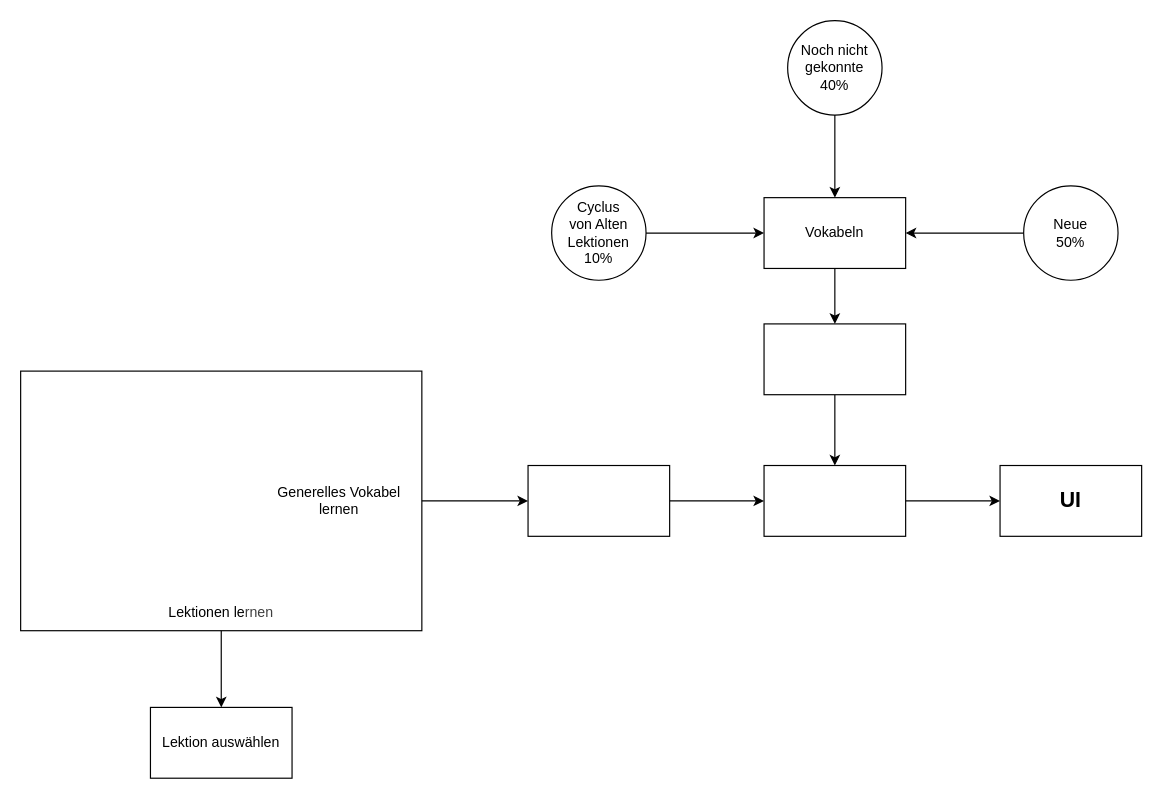
Some shapes in this 1162 by 799 pixel diagram are drawn without their labels. The centre of each missing label's shape, as x and y in pixels:
"Backend" belongs at pixel 834 500.
"F rage nach aktuelle r Lektion" belongs at pixel 598 500.
"Gutes Ve rhältniss von nicht gekonnten und gekonnten vok." belongs at pixel 834 359.
